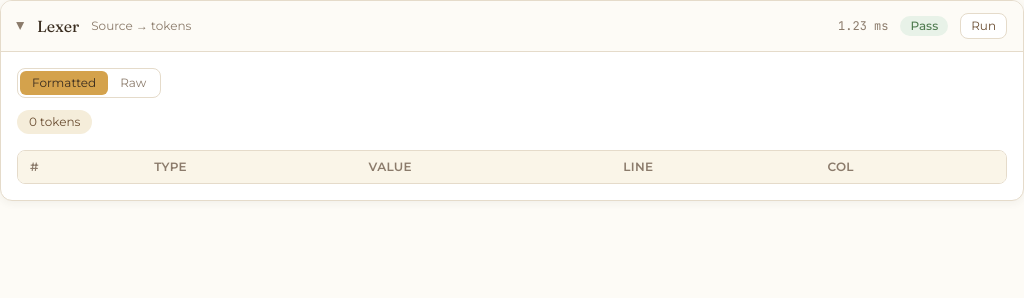
Test: EngineCard › renders the raw JSON view under the documented testid when toggled
The image size is (1024, 298).
Click the button "raw" at (133, 83), box [108,71,158,95]
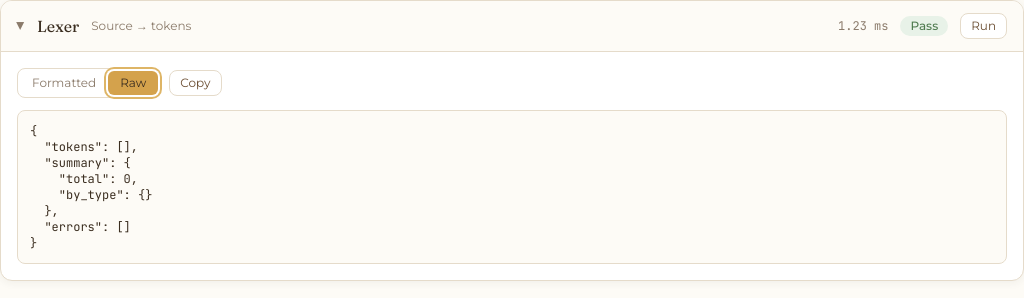
Now the text with test id "lexer-raw-json" shows "\"tokens\"", box [30,123,152,251]
